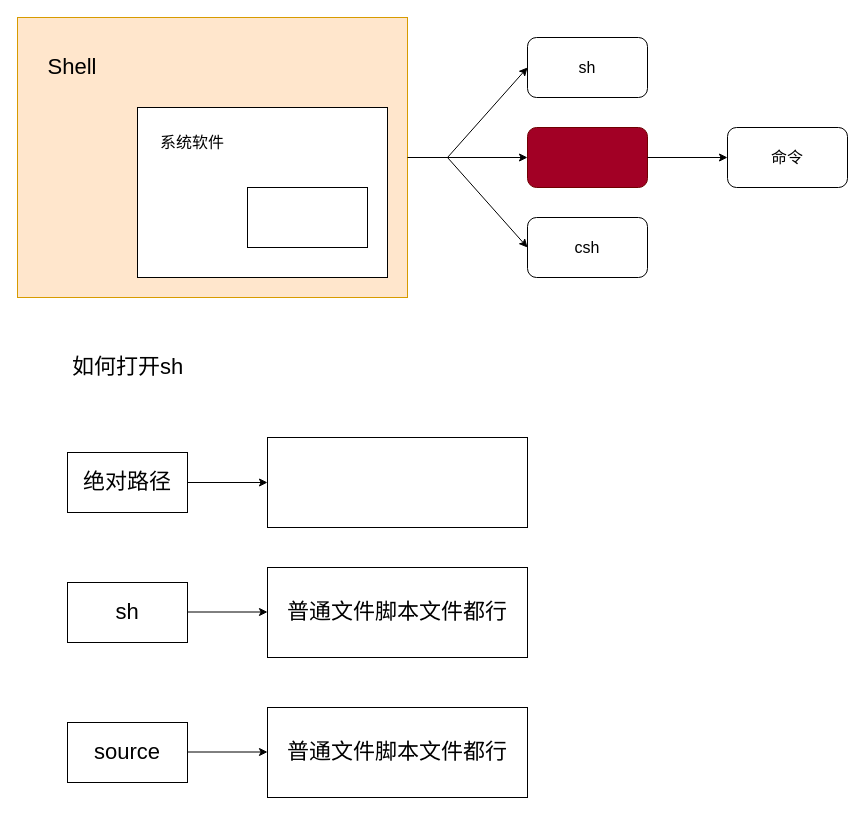
The diagram is 865 pixels wide and 815 high, and some of its shapes have lost their labels. The centre of each missing label's shape, as x and y in pixels:
"bash" belongs at (587,157).
"内核 Kernel" belongs at (307,217).
"必须是可执行文件" belongs at (397,482).
